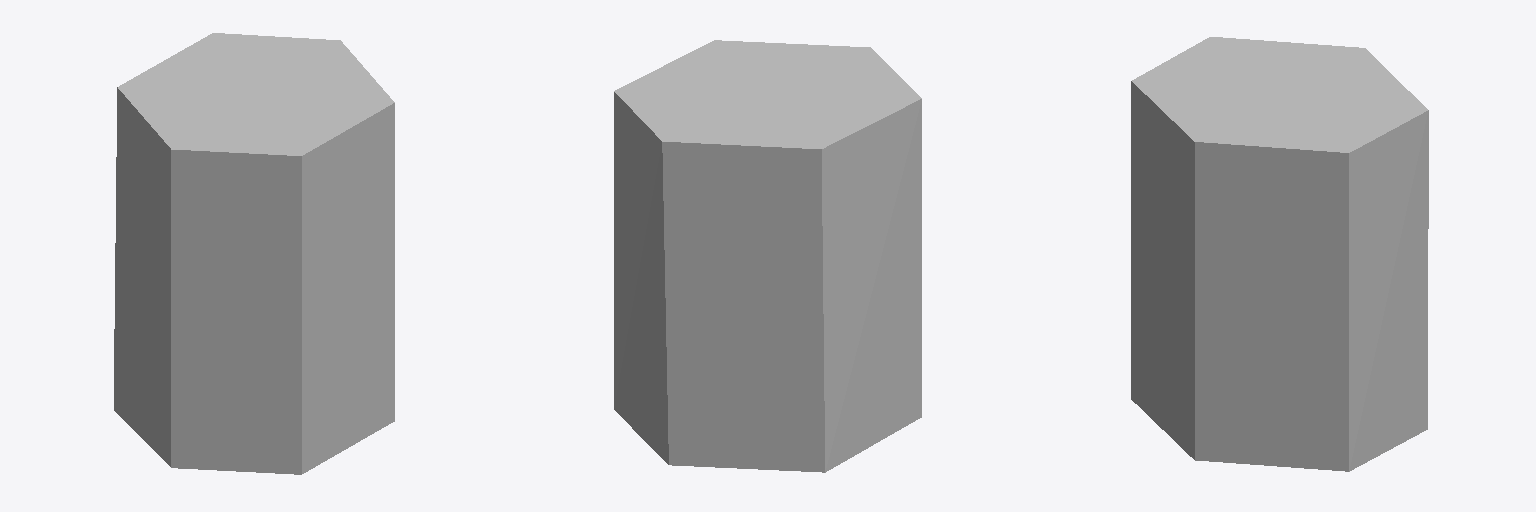
The model's file is MagosSingleRock_Mesh.obj.
3 views of the same model, side by side, from view 1: azimuth 30°, elevation 25°; view 2: azimuth 150°, elevation 25°; view 3: azimuth 270°, elevation 25° (orthographic).
Visible parts, largest first — view 1: MagosRockSingle; view 2: MagosRockSingle; view 3: MagosRockSingle.
Boxes of the visible parts, x1,y1,x2,y2 form: MagosRockSingle: [114, 33, 394, 474]; MagosRockSingle: [614, 40, 921, 472]; MagosRockSingle: [1131, 37, 1428, 471].
Bounding box in the file's own units: 2.83 × 3.65 × 3.05.